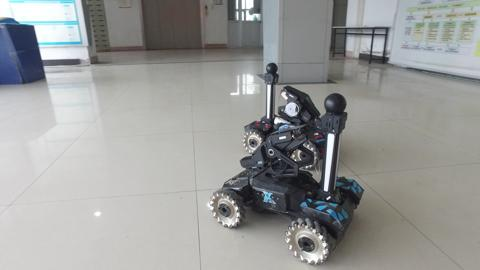chariot: (205, 90, 373, 268), (235, 58, 328, 169)
